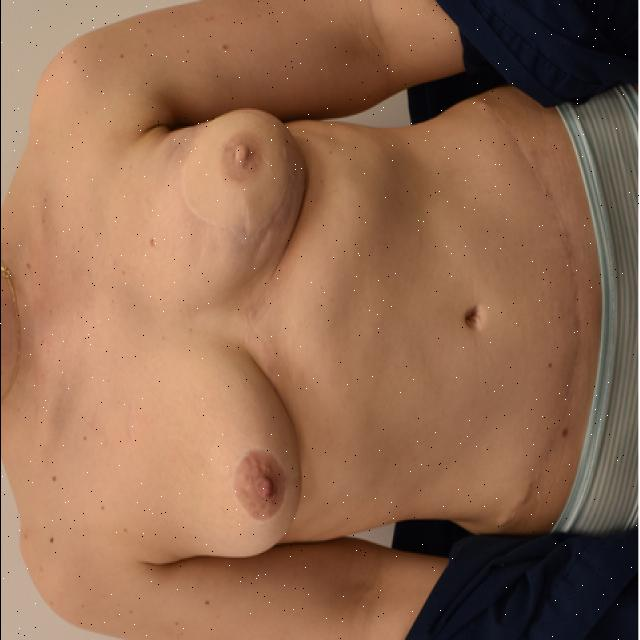Seno herido: (161, 101, 312, 322)
Seno ileso: (161, 334, 308, 564)
